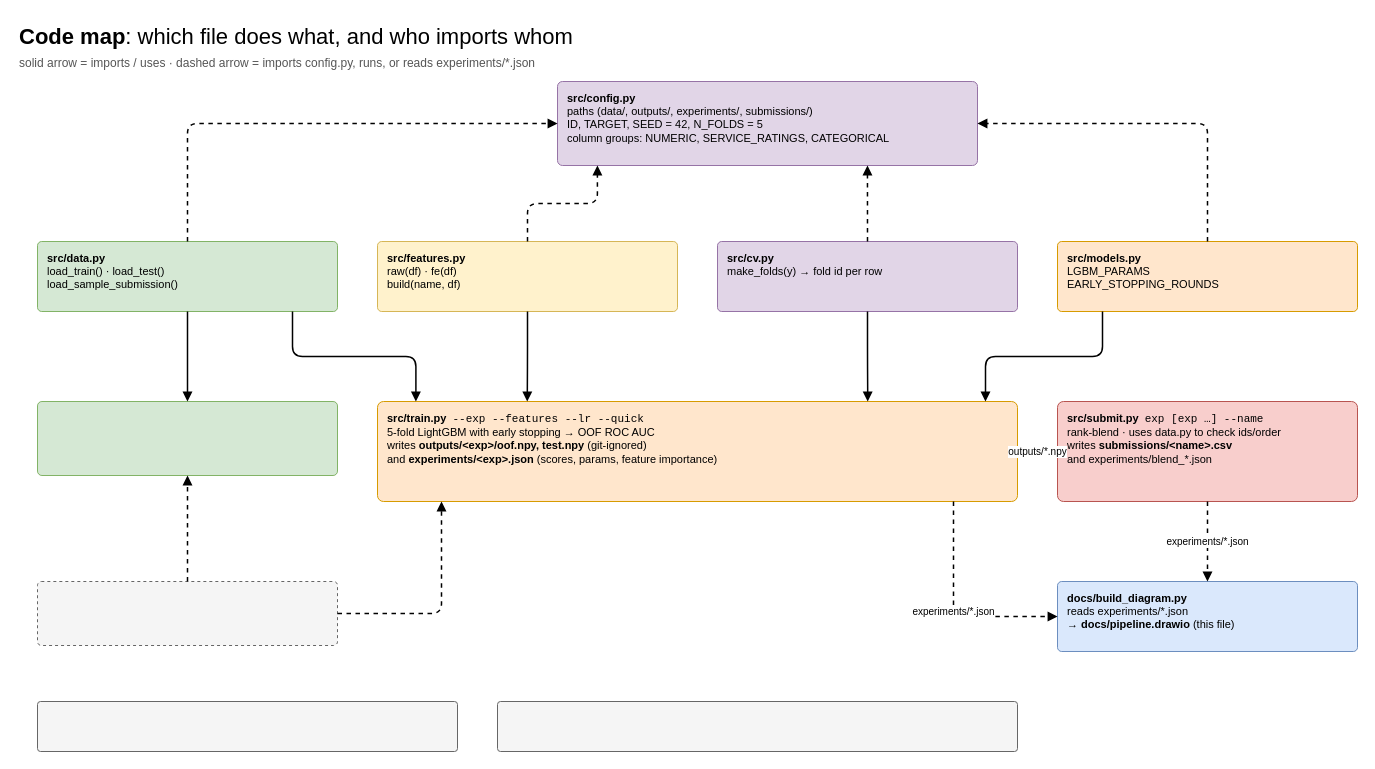
The diagram is 1375 pixels wide and 769 high, and some of its shapes have lost their labels. The shapes that lost their labels are listed below. From the top down, each one's box as (x1, y1, x2, y2) in pixels, then its label:
(36, 400, 338, 476): src/eda.py single-feature AUC, segments, drift → reports/eda.md
(36, 580, 338, 646): Makefile make setup · data · eda · smoke · train · submit
(36, 700, 458, 752): Git-ignored (local only) data/ · outputs/ · submissions/ · .venv/
(496, 700, 1018, 752): Tracked src/ · docs/ · reports/ · experiments/ · README.md · Makefile
